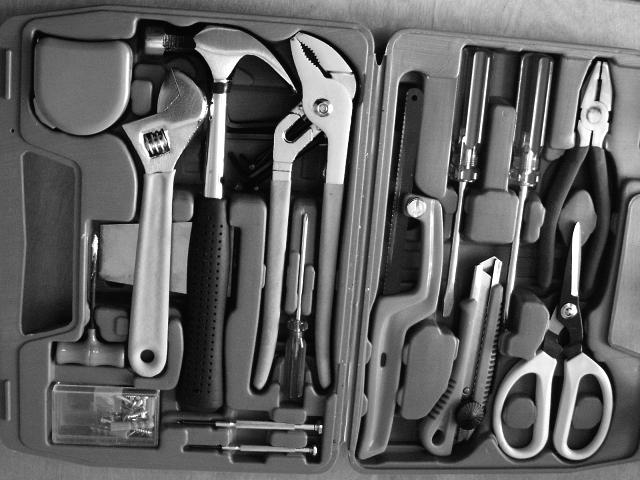Adjustable spanner: (122, 68, 208, 377)
Gas wrench: (254, 33, 356, 390)
Hammer: (144, 25, 295, 412)
Pliers: (538, 61, 612, 293)
Screwdriver: (502, 52, 554, 322), (442, 47, 492, 316), (282, 217, 309, 398)
Tape measure: (34, 36, 132, 135)
Utility knife: (420, 257, 504, 456)
